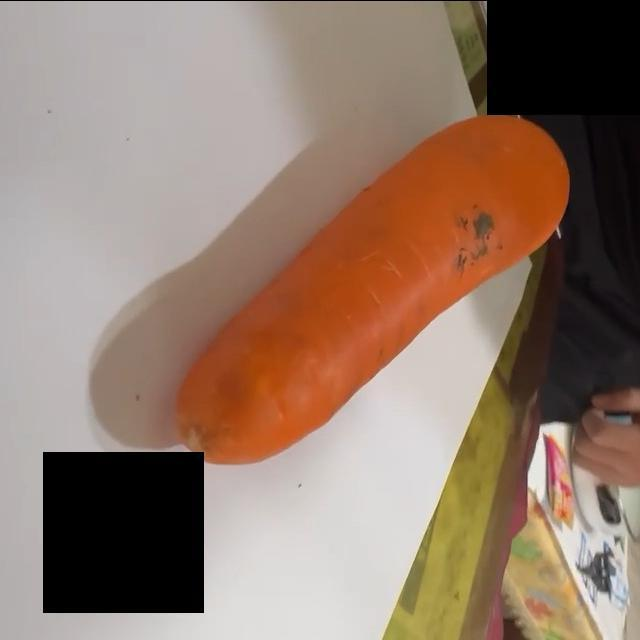carrot: (174, 114, 573, 465)
